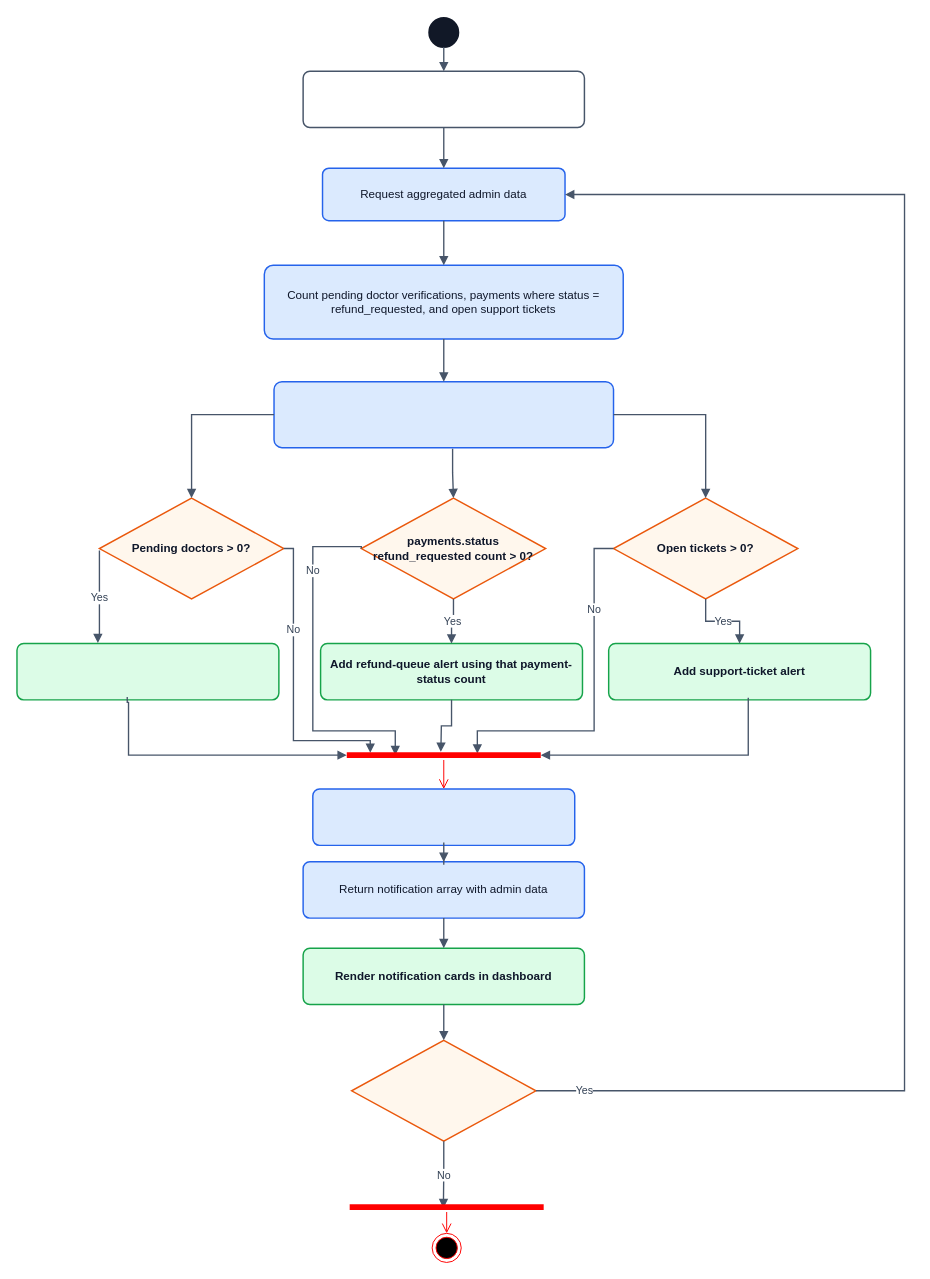
The diagram is 930 pixels wide and 1279 high, and some of its shapes have lost their labels. Each missing label, with the centre of its shape:
Add doctor-verification alert: the point at 147,671
Admin opens or refreshes dashboard: the point at 443,99
Always add system-health message: the point at 443,817
Compute health score = max(80, 100 − 2×pending doctors − open tickets): the point at 443,414
Refresh/data changes?: the point at 443,1090
